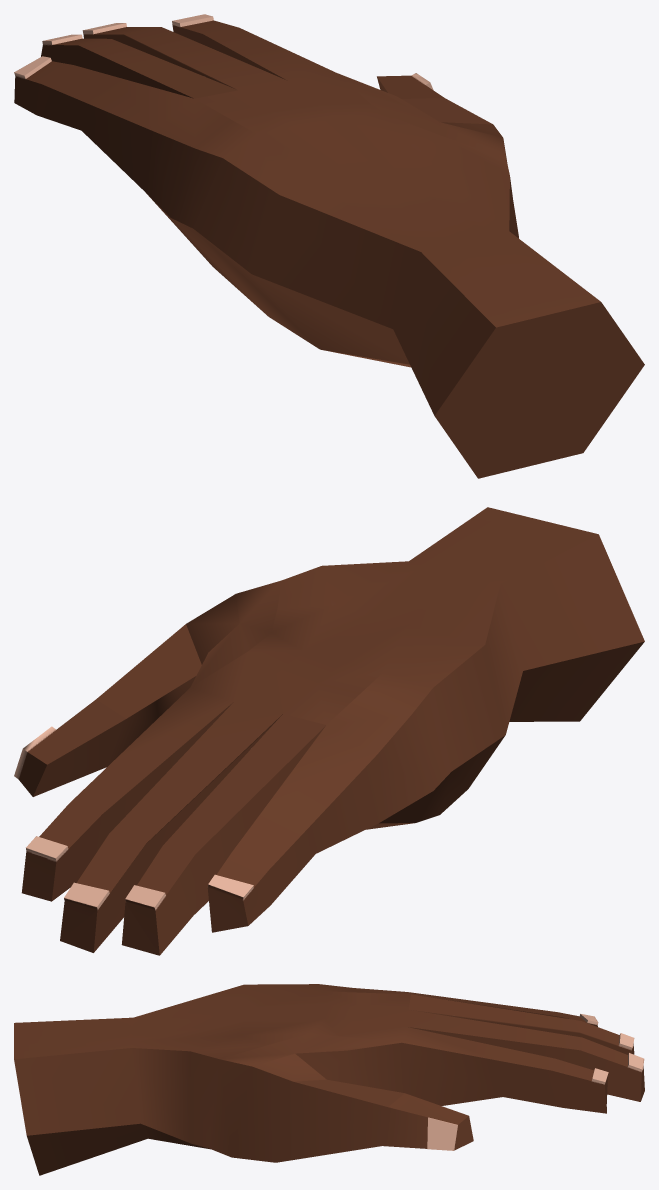
File: hand left.fbx
3 renders of one model, top to bottom at view 1: azimuth 30°, elevation 25°; view 2: azimuth 150°, elevation 25°; view 3: azimuth 270°, elevation 25°, orthographic. The views are drawn at different scales.
Visible parts, largest first — view 1: pCylinder1; view 2: pCylinder1; view 3: pCylinder1.
Boxes of the visible parts, x1,y1,x2,y2 form: pCylinder1: (14,14,644,478); pCylinder1: (14,507,644,955); pCylinder1: (14,984,644,1175).
Bounding box in the file's own units: 1.65 × 0.9628 × 3.88.
1 material, 1 textured.
